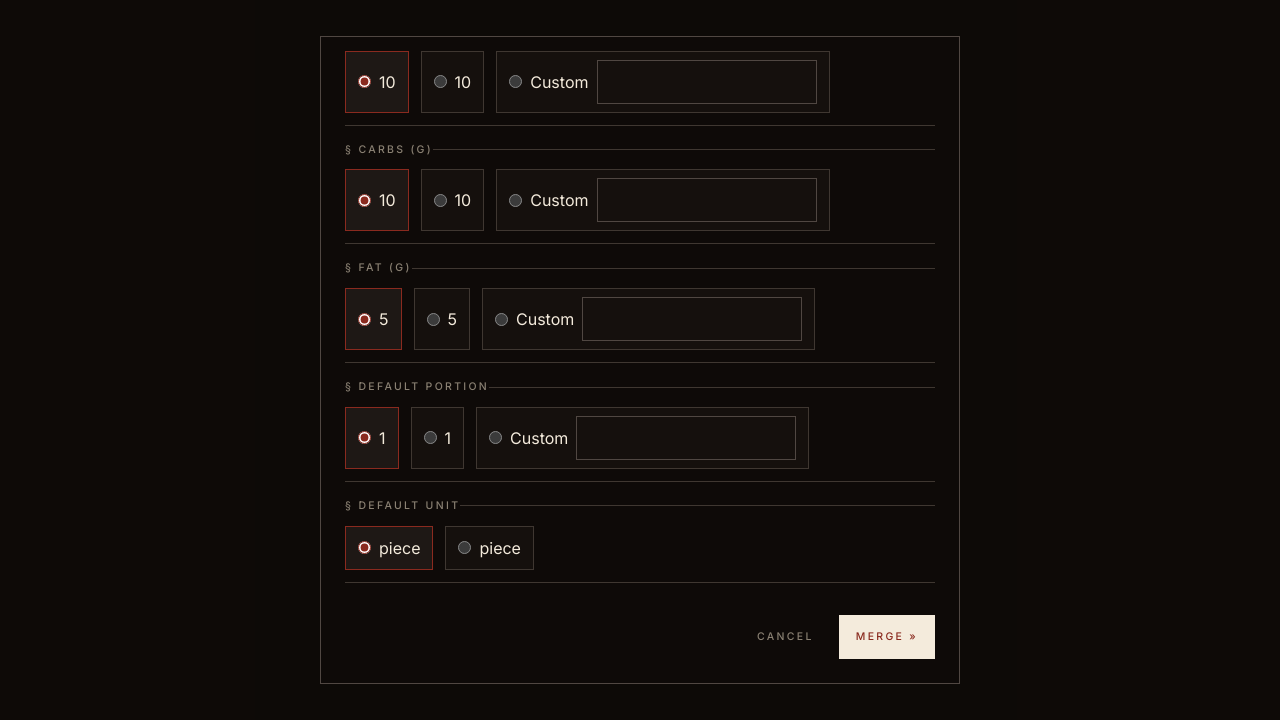
Test case: <MergeDuplicatesDialog /> › CF-1 UI defensive: winner.id === loser.id blocks submit + surfaces error
(page scrolled)
Click the button with test id "library-merge-submit" at (887, 637), box [839,615,935,659]
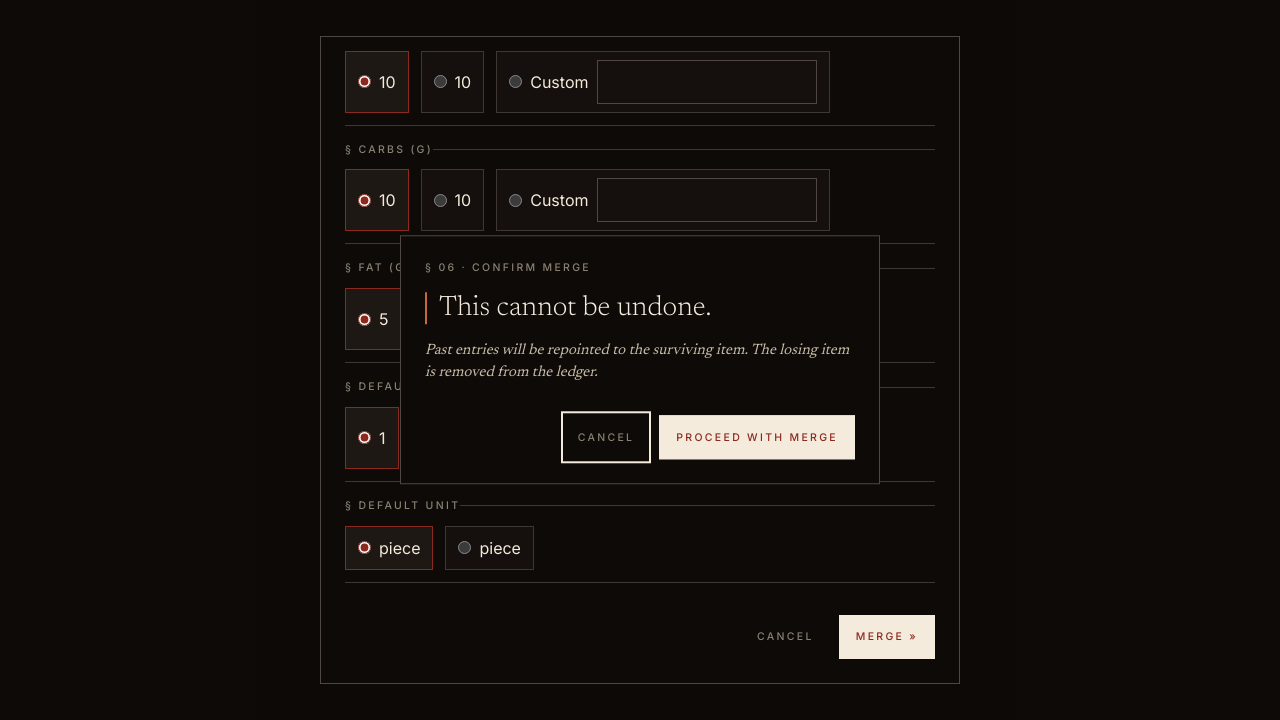
Now the button with test id "library-merge-proceed" is shown
Click the button with test id "library-merge-proceed" at (757, 438), box [659,416,855,460]
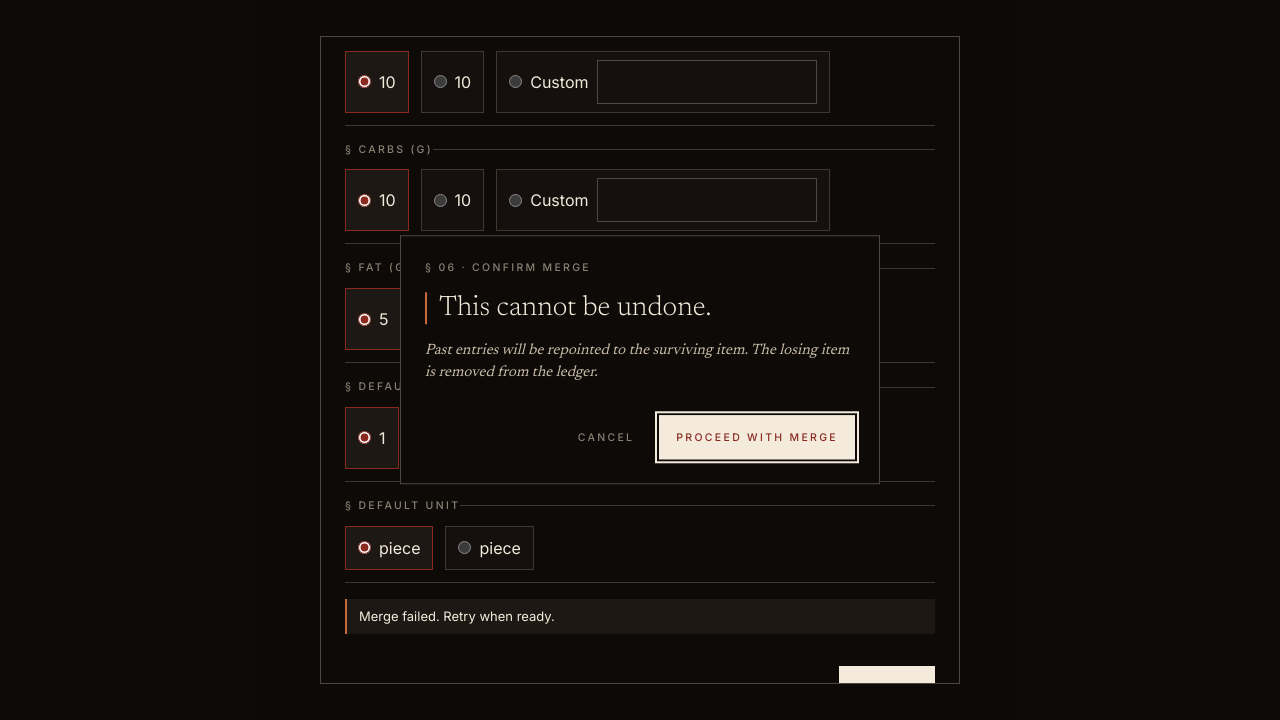
Now the message "Merge failed. Retry when ready." is shown, box [345,599,935,634]
